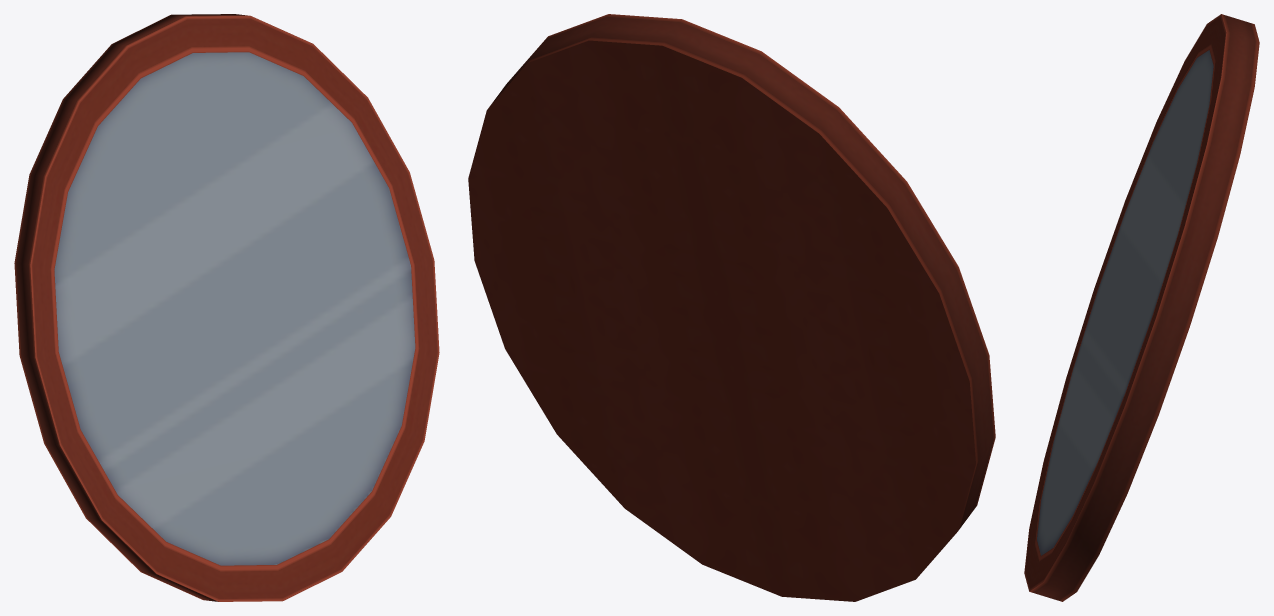
File: TianZhuJiaoTang_01_jingzi_01.FBX
The picture shows the model from 3 angles, left to right: view 1: azimuth 30°, elevation 25°; view 2: azimuth 150°, elevation 25°; view 3: azimuth 270°, elevation 25°; orthographic projection. The views are drawn at different scales.
Visible parts, largest first — view 1: TianZhuJiaoTang_01_jingzi_01; view 2: TianZhuJiaoTang_01_jingzi_01; view 3: TianZhuJiaoTang_01_jingzi_01.
Boxes of the visible parts, bbox=[...] form: TianZhuJiaoTang_01_jingzi_01: bbox=[14, 14, 439, 601]; TianZhuJiaoTang_01_jingzi_01: bbox=[468, 14, 995, 601]; TianZhuJiaoTang_01_jingzi_01: bbox=[1024, 14, 1259, 601].
Size of the model in its own units: 144 by 181 by 69.94.
